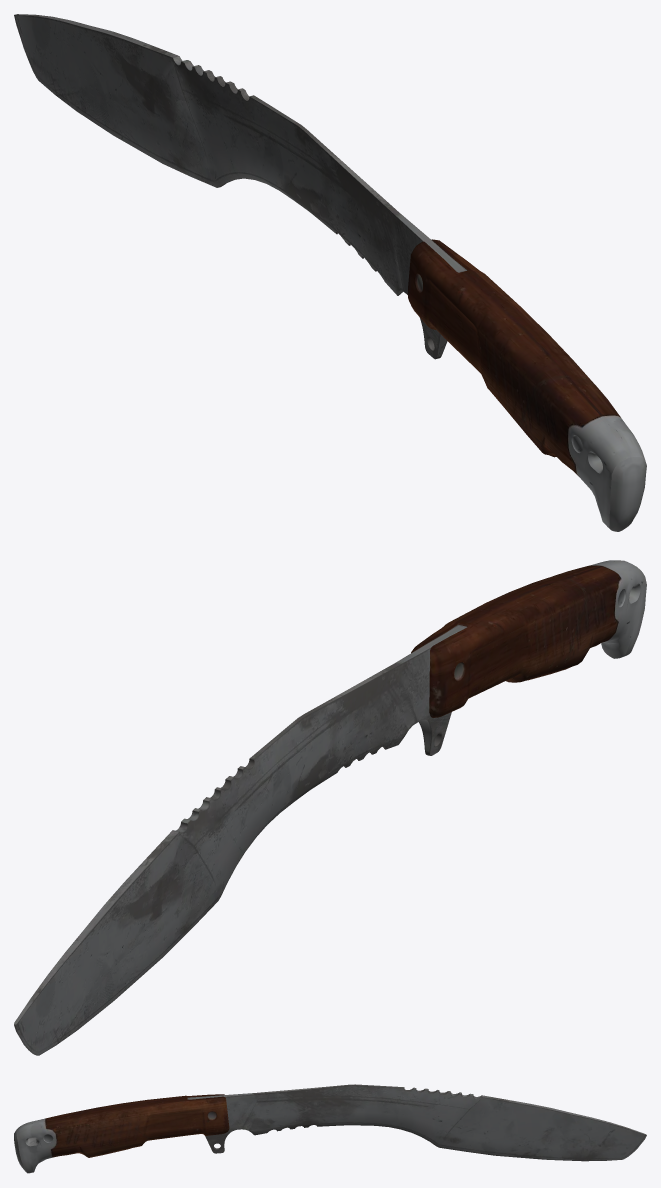
File: b_kukri.glb
3 views of the same model, one above another, from view 1: azimuth 30°, elevation 25°; view 2: azimuth 150°, elevation 25°; view 3: azimuth 270°, elevation 25° (orthographic). The views are drawn at different scales.
Parts seen in each view (by area): view 1: govde; view 2: govde; view 3: govde.
Boxes of the visible parts, x1,y1,x2,y2 form: govde: (14, 14, 646, 531); govde: (14, 560, 646, 1055); govde: (14, 1084, 646, 1173).
Size of the model in its own units: 0.0193 by 0.0616 by 0.4.
1 material, 1 textured.
